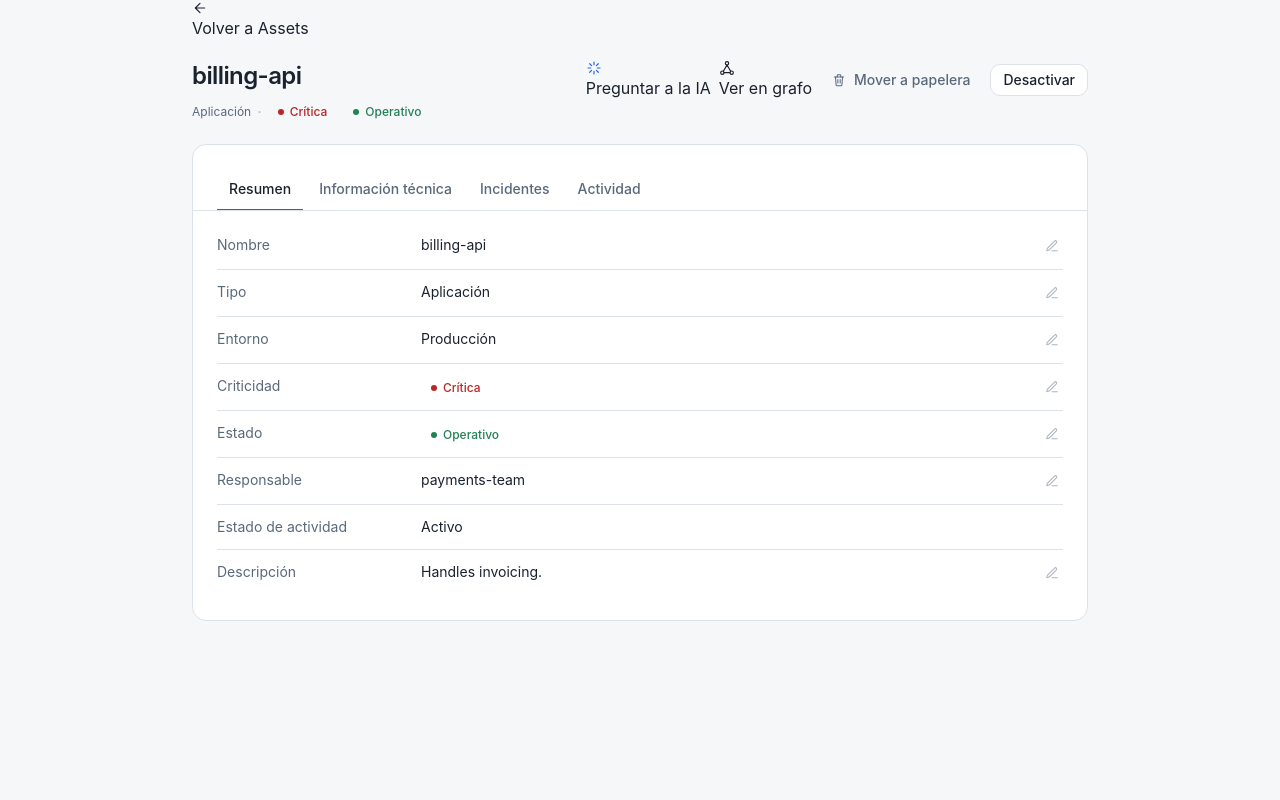
Test: AssetDetail (full page) › surfaces an error when the lifecycle action fails
Click the button "Desactivar": {"x": 1039, "y": 80} x1=990 y1=64 x2=1088 y2=96
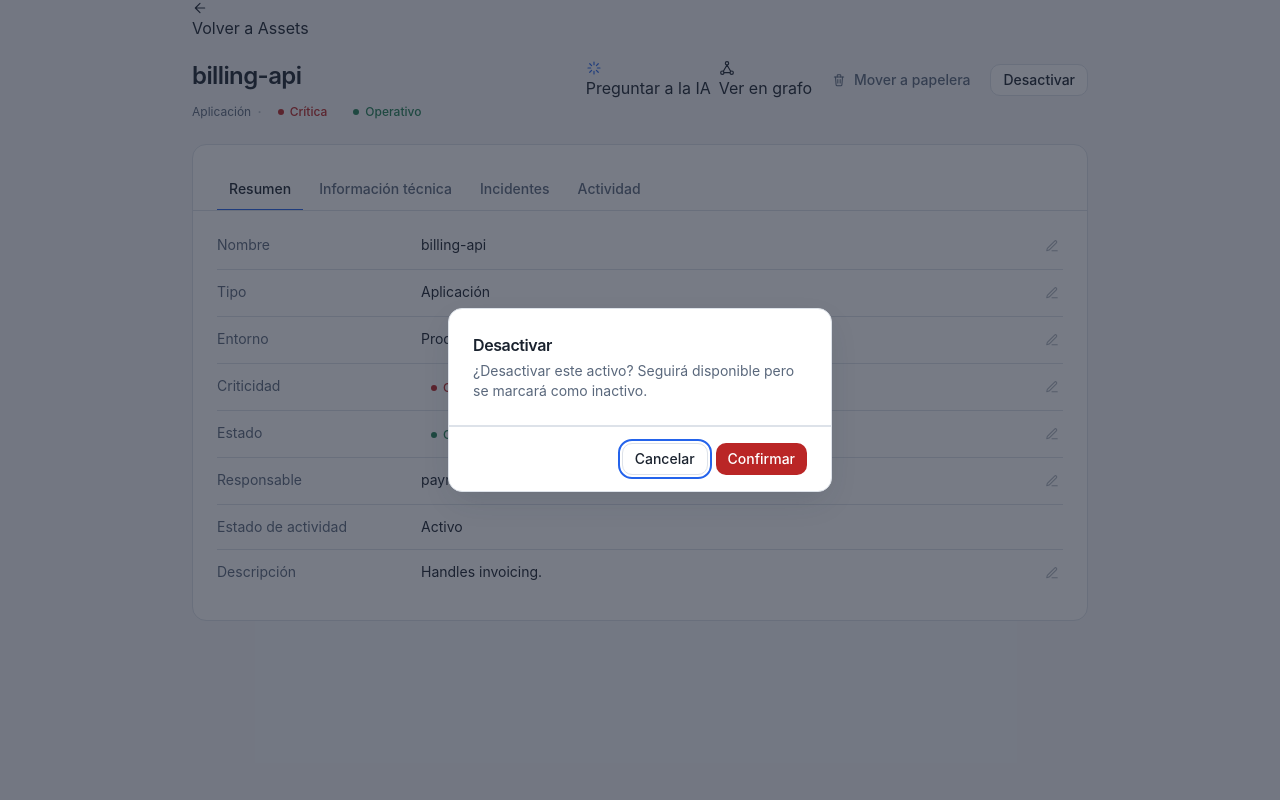
Click the button "Confirmar": {"x": 761, "y": 459} x1=716 y1=443 x2=807 y2=475
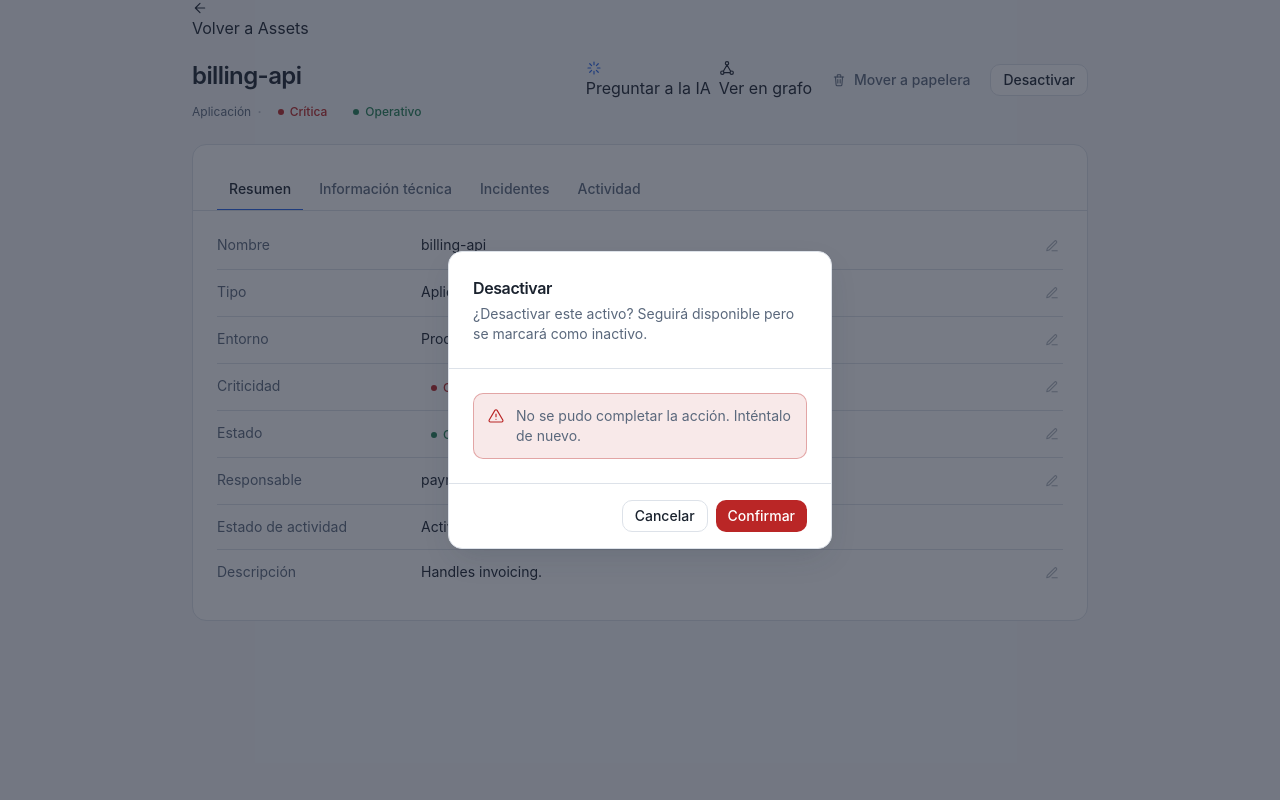
Now the message shows "No se pudo completar la acción", box x1=516 y1=407 x2=791 y2=444
